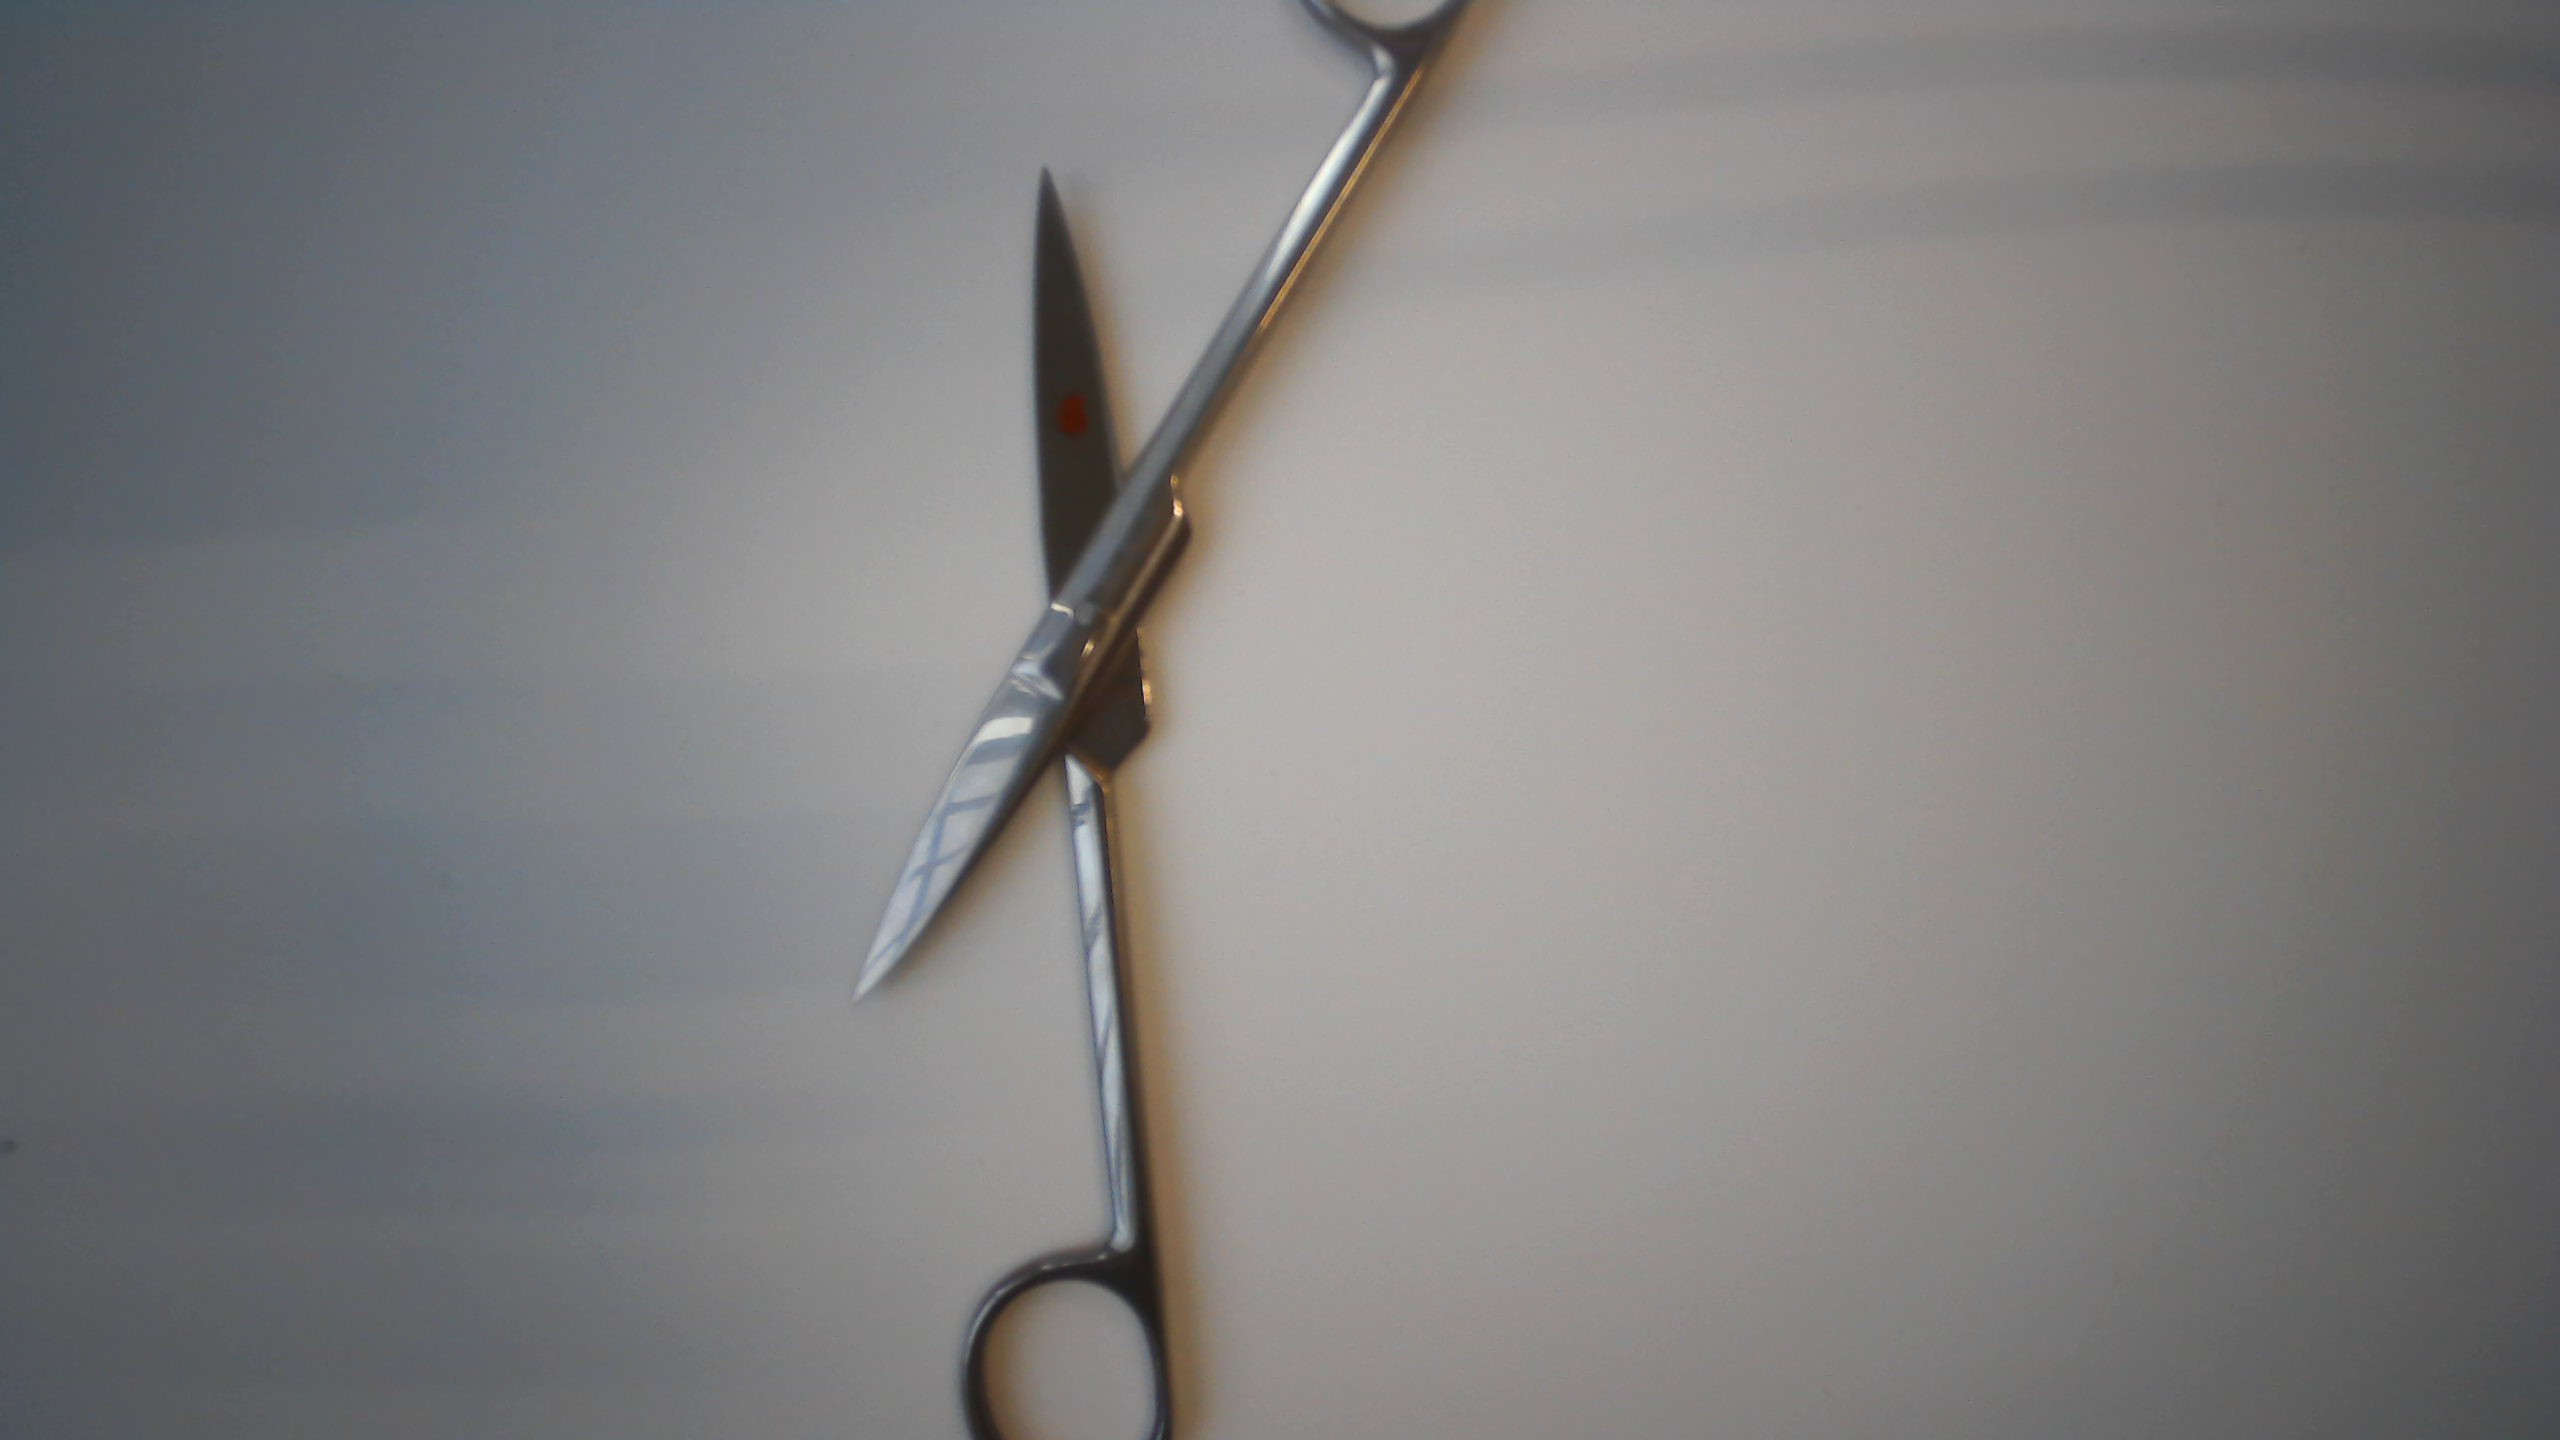Stain: (1053, 383, 1095, 452)
